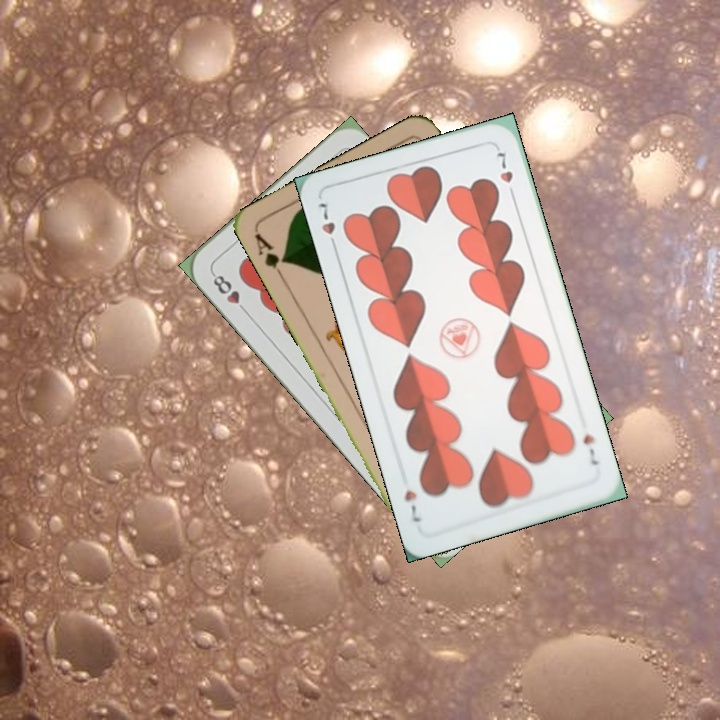GA: (250, 229, 290, 283)
H7: (314, 199, 340, 254), (578, 430, 601, 468)
H8: (208, 268, 251, 317)
